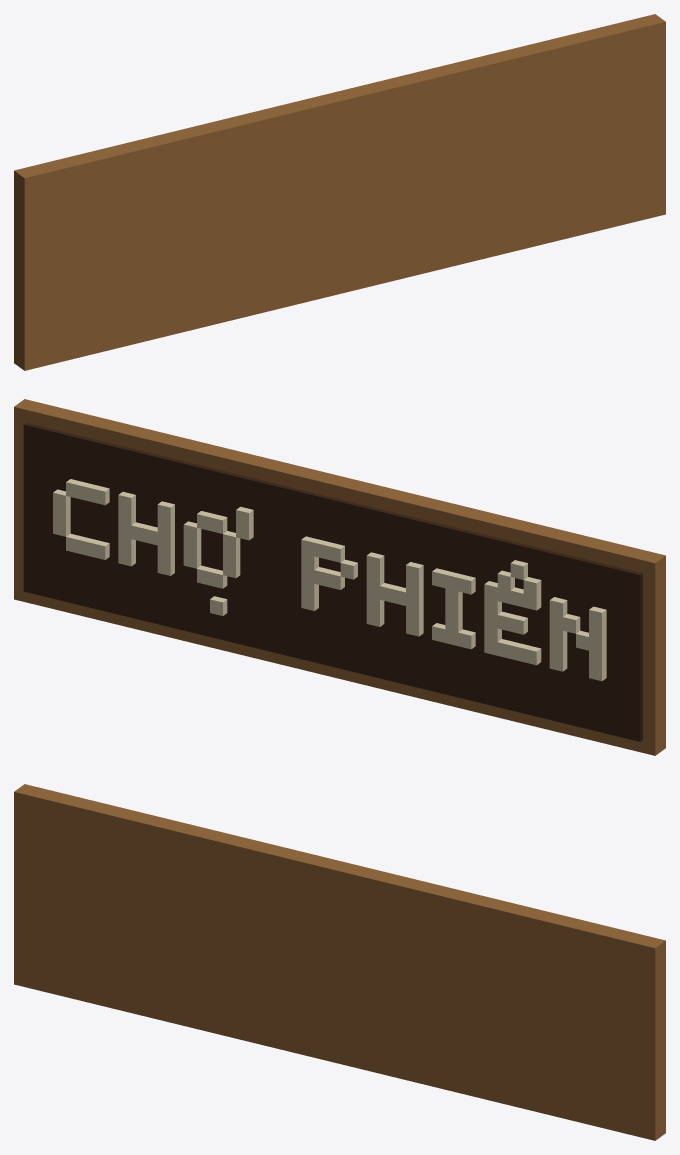
The model's file is th-sign-cho-phien.glb.
The picture shows the model from 3 angles, top to bottom: view 1: azimuth 30°, elevation 25°; view 2: azimuth 150°, elevation 25°; view 3: azimuth 330°, elevation 25°; orthographic projection.
Parts seen in each view (by area): view 1: box-prop; view 2: box-prop; view 3: box-prop.
Part boxes in pixels (bbox=[...]): box-prop: bbox=[14, 14, 665, 370]; box-prop: bbox=[14, 399, 665, 755]; box-prop: bbox=[14, 784, 665, 1140].
Size of the model in its own units: 4.17 by 1.2 by 0.2.
